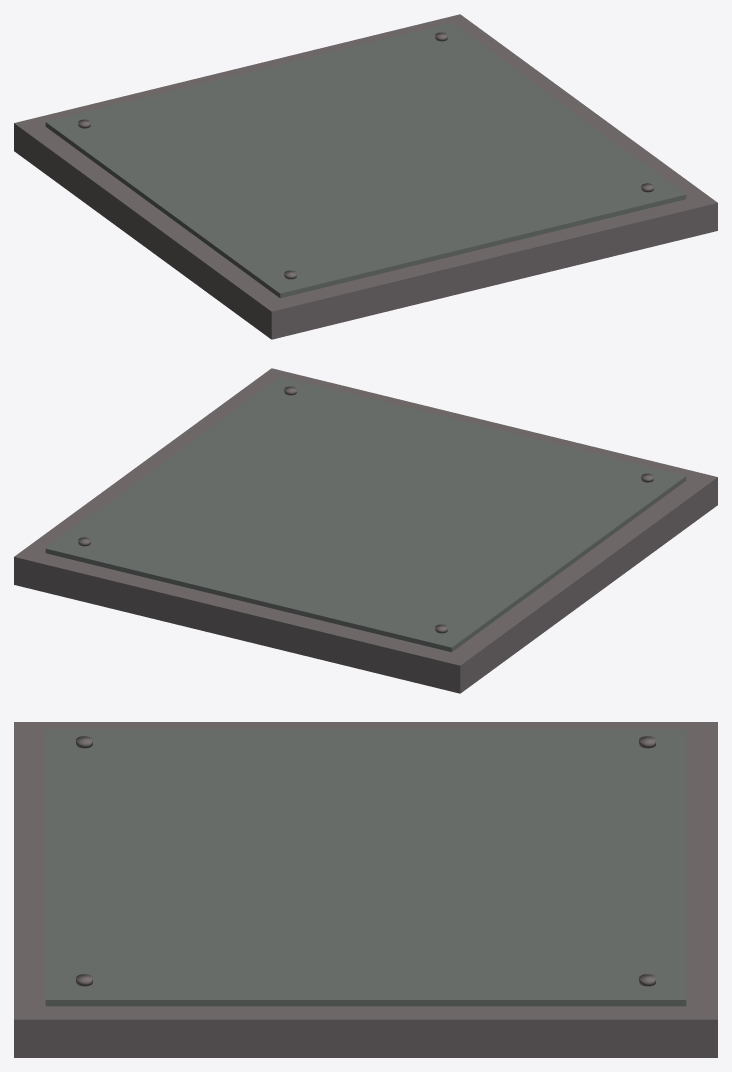
Rendered from env_base99_floor_rivet_5m_visual_top3d_v001.glb.
The picture shows the model from 3 angles, top to bottom: view 1: azimuth 30°, elevation 25°; view 2: azimuth 150°, elevation 25°; view 3: azimuth 270°, elevation 25°; orthographic projection. The views are drawn at different scales.
Visible parts, largest first — view 1: 带铆钉地板_主体_金属哑光反光; view 2: 带铆钉地板_主体_金属哑光反光; view 3: 带铆钉地板_主体_金属哑光反光.
Part boxes in pixels (x1,y1,x2,y2): 带铆钉地板_主体_金属哑光反光: (14, 14, 717, 339); 带铆钉地板_主体_金属哑光反光: (14, 368, 717, 693); 带铆钉地板_主体_金属哑光反光: (14, 722, 717, 1057).
Size of the model in its own units: 5 by 0.395 by 5.
Materials: 2 (2 with a texture image).
